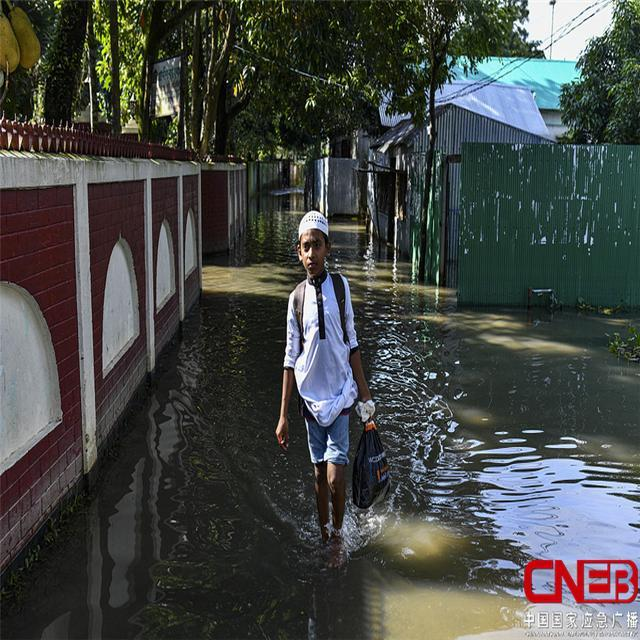Person-RiskLevel2: (274, 210, 395, 542)
